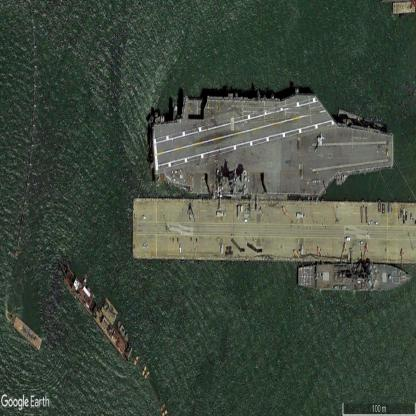ship: (151, 93, 395, 199), (58, 260, 133, 364), (296, 262, 411, 293), (117, 320, 129, 342)
